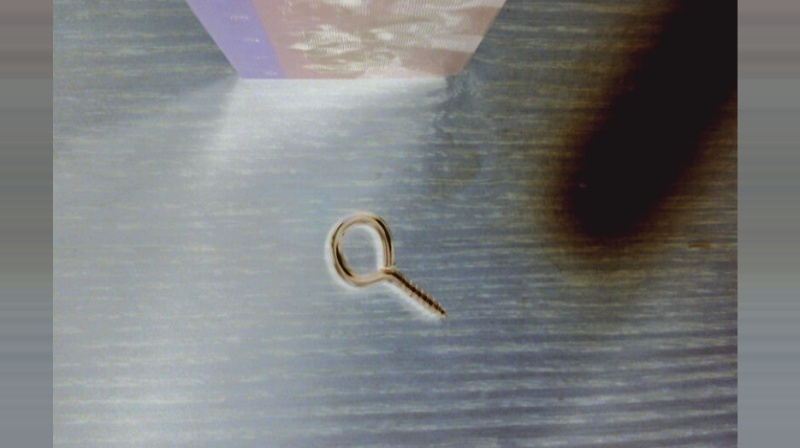O001: (324, 210, 449, 323)
